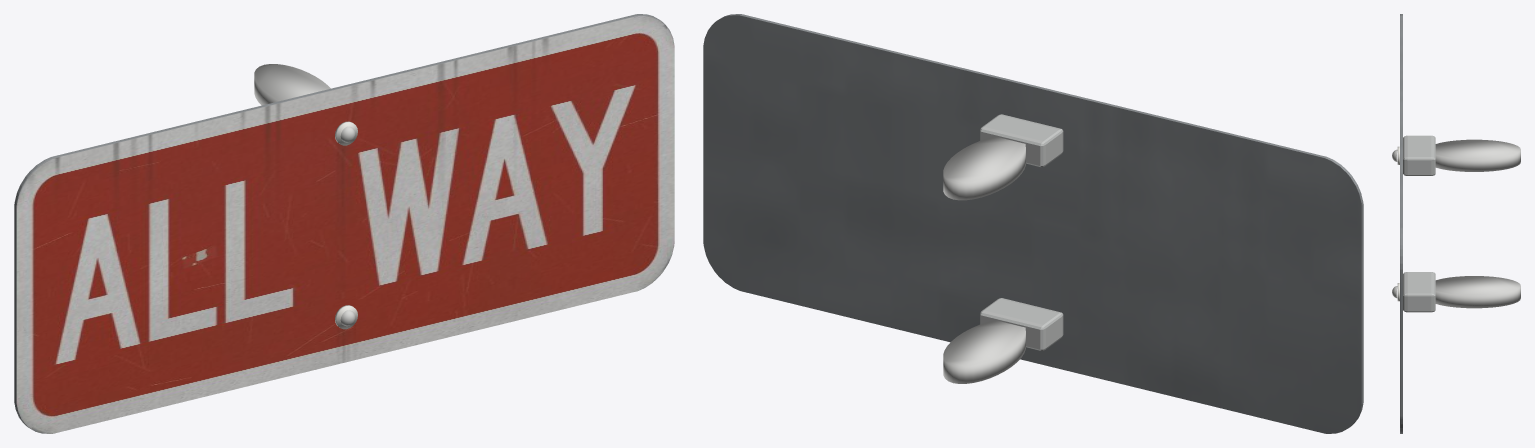
File: allWay-v1.glb
The picture shows the model from 3 angles, left to right: view 1: azimuth 30°, elevation 25°; view 2: azimuth 150°, elevation 25°; view 3: azimuth 270°, elevation 25°; orthographic projection. The views are drawn at different scales.
Parts seen in each view (by area): view 1: allWay-v1; view 2: allWay-v1; view 3: allWay-v1.
Part boxes in pixels (x1=…): allWay-v1: x1=14, y1=14, x2=674, y2=433; allWay-v1: x1=703, y1=14, x2=1363, y2=433; allWay-v1: x1=1392, y1=14, x2=1520, y2=433.
Size of the model in its own units: 0.381 by 0.1524 by 0.0871.
1 material, 1 textured.
